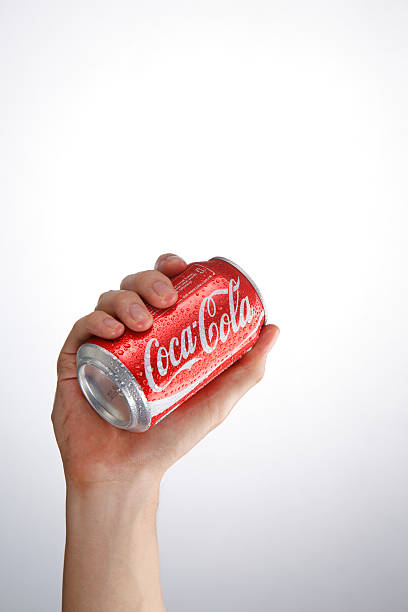coke: (78, 254, 267, 434)
